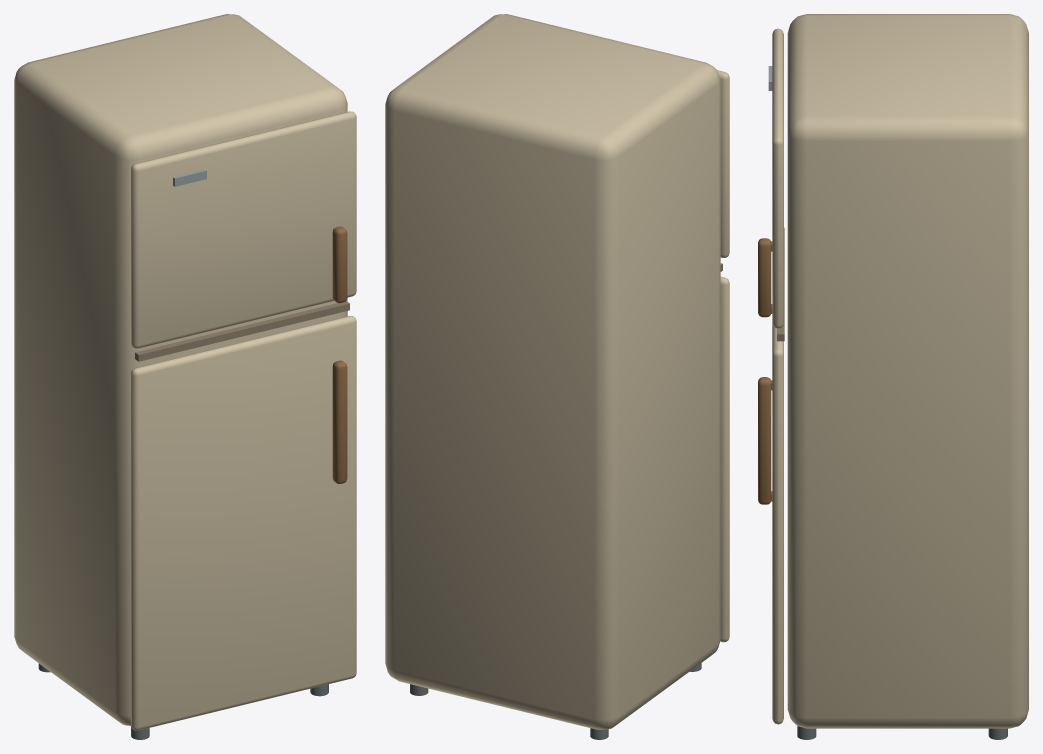
Rendered from fridge.glb.
The picture shows the model from 3 angles, left to right: view 1: azimuth 30°, elevation 25°; view 2: azimuth 150°, elevation 25°; view 3: azimuth 270°, elevation 25°; orthographic projection. The views are drawn at different scales.
Parts seen in each view (by area): view 1: fridge_body, fridge_door_low, fridge_door_top, fridge_gap, fridge_handle, fridge_handle.001; view 2: fridge_body, fridge_door_low, fridge_door_top; view 3: fridge_body, fridge_door_low, fridge_door_top, fridge_handle, fridge_handle.001.
Part boxes in pixels (x1,y1,x2,y2): fridge_body: [14, 14, 347, 725]; fridge_door_low: [131, 316, 356, 730]; fridge_door_top: [131, 111, 356, 348]; fridge_gap: [135, 301, 349, 361]; fridge_handle: [332, 360, 347, 483]; fridge_handle.001: [332, 226, 347, 303]; fridge_body: [385, 14, 720, 729]; fridge_door_low: [720, 276, 729, 642]; fridge_door_top: [717, 70, 729, 257]; fridge_body: [787, 14, 1028, 728]; fridge_door_low: [772, 324, 783, 724]; fridge_door_top: [772, 28, 783, 328]; fridge_handle: [758, 377, 771, 504]; fridge_handle.001: [758, 238, 771, 317].
Bounding box in the file's own units: 0.72 × 1.8 × 0.7075.
